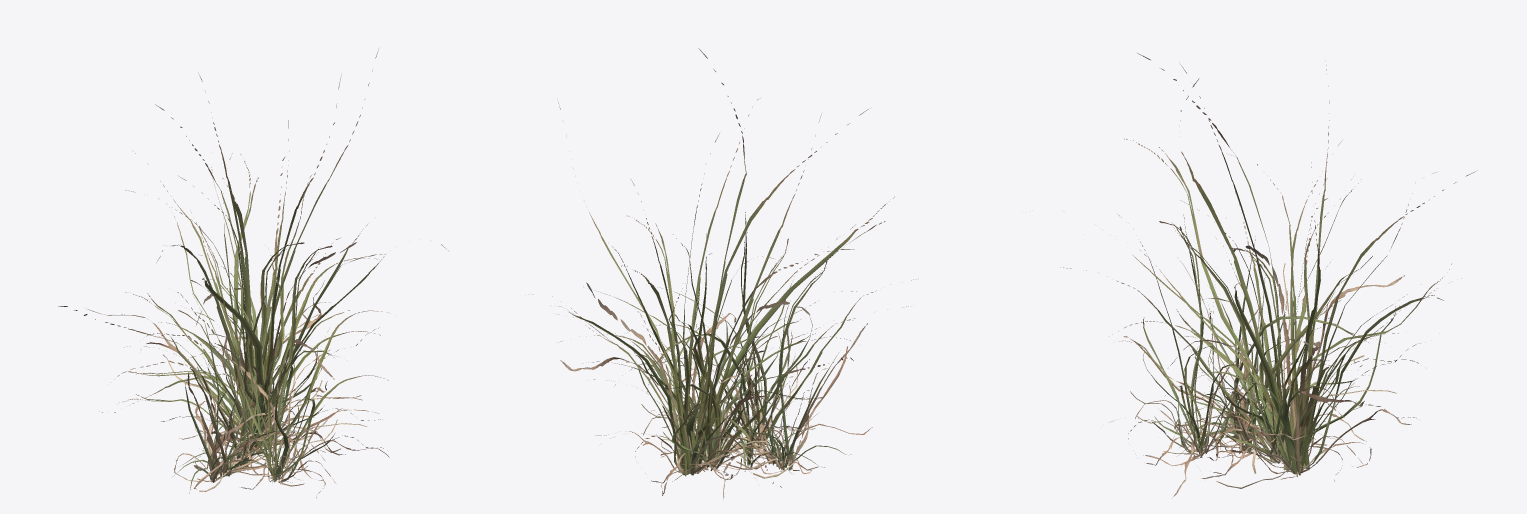
Rendered from grass-medium-02.glb.
3 views of the same model, side by side, from view 1: azimuth 30°, elevation 25°; view 2: azimuth 150°, elevation 25°; view 3: azimuth 270°, elevation 25° (orthographic). The views are drawn at different scales.
Visible parts, largest first — view 1: grass_medium_02_e, grass_medium_02_d, grass_medium_02_c, grass_medium_02_b, grass_medium_02_a; view 2: grass_medium_02_e, grass_medium_02_d, grass_medium_02_b, grass_medium_02_c, grass_medium_02_a; view 3: grass_medium_02_e, grass_medium_02_d, grass_medium_02_c, grass_medium_02_b, grass_medium_02_a.
Part boxes in pixels (bbox=[...]): grass_medium_02_e: bbox=[58, 49, 448, 465]; grass_medium_02_d: bbox=[110, 167, 382, 486]; grass_medium_02_c: bbox=[192, 245, 389, 497]; grass_medium_02_b: bbox=[173, 294, 342, 493]; grass_medium_02_a: bbox=[183, 326, 300, 479]; grass_medium_02_e: bbox=[532, 48, 894, 495]; grass_medium_02_d: bbox=[558, 233, 908, 499]; grass_medium_02_b: bbox=[672, 302, 872, 481]; grass_medium_02_c: bbox=[627, 212, 913, 445]; grass_medium_02_a: bbox=[662, 321, 794, 473]; grass_medium_02_e: bbox=[1112, 53, 1477, 476]; grass_medium_02_d: bbox=[1060, 179, 1451, 488]; grass_medium_02_c: bbox=[1111, 214, 1371, 496]; grass_medium_02_b: bbox=[1123, 236, 1366, 473]; grass_medium_02_a: bbox=[1179, 275, 1307, 454].
Bounding box in the file's own units: 0.3556 × 0.4032 × 0.4332.
Materials: 5 (5 with a texture image).
